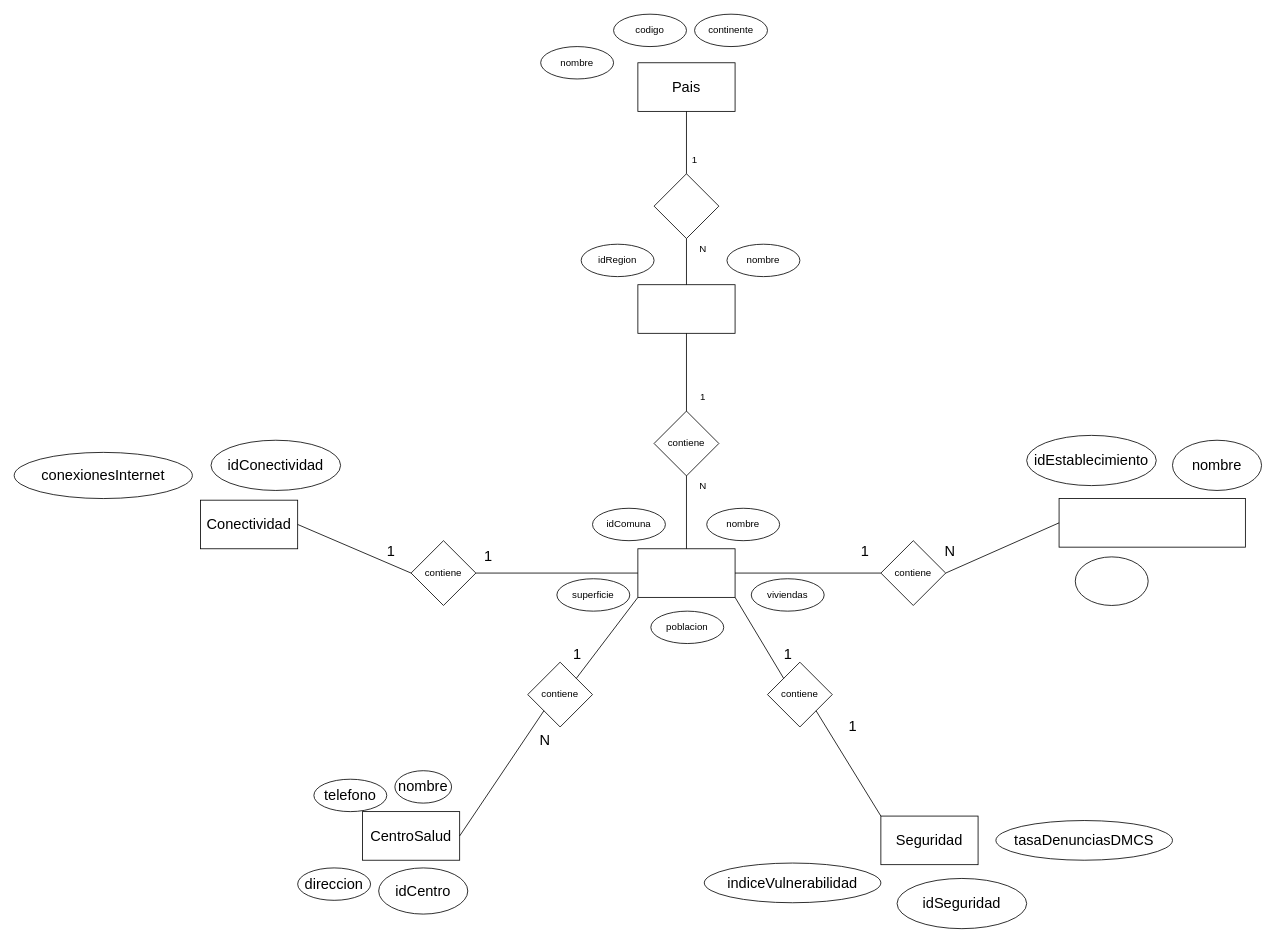
Some shapes in this 1276 by 943 pixel diagram are drawn without their labels. Each missing label, with the centre of its shape:
"Comuna" goes at point 686,572.
"EstablecimientoEducacion" goes at point 1151,522.
"pace" goes at point 1111,580.
"pertenece" goes at point 686,206.
"Region" goes at point 686,308.
